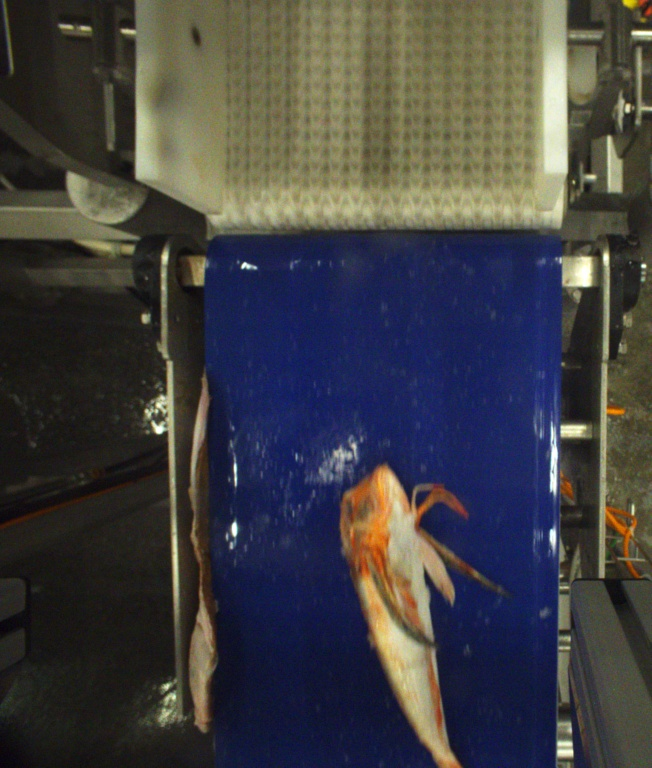GUU: (340, 462, 506, 768)
